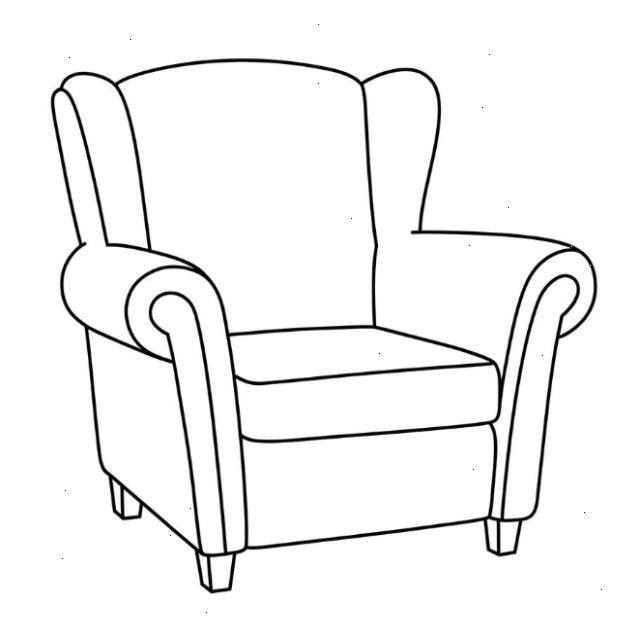Backrest: (107, 55, 378, 339)
Leg_Structure: (108, 470, 525, 596)
Seat: (224, 324, 503, 550)
Wing_Flange: (48, 70, 153, 250), (360, 63, 446, 254)
sofa_armrest: (372, 228, 599, 524), (57, 240, 250, 560)
